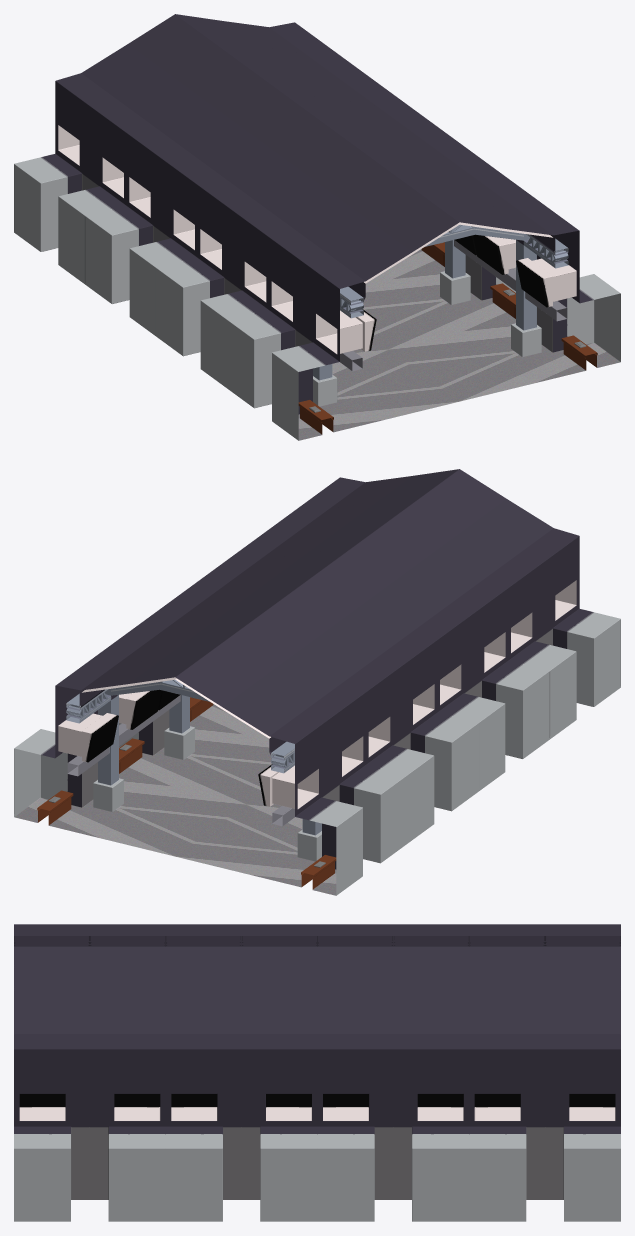
The model's file is Penn Station Room1.fbx.
The picture shows the model from 3 angles, top to bottom: view 1: azimuth 30°, elevation 25°; view 2: azimuth 150°, elevation 25°; view 3: azimuth 270°, elevation 25°; orthographic projection. The views are drawn at different scales.
Parts seen in each view (by area): view 1: Room1; view 2: Room1; view 3: Room1.
Part boxes in pixels (x1,y1,x2,y2): Room1: (14,14,620,440); Room1: (14,469,620,895); Room1: (14,924,620,1221).
Bounding box in the file's own units: 3541 × 1881 × 5411.
Materials: 1 (1 with a texture image).
